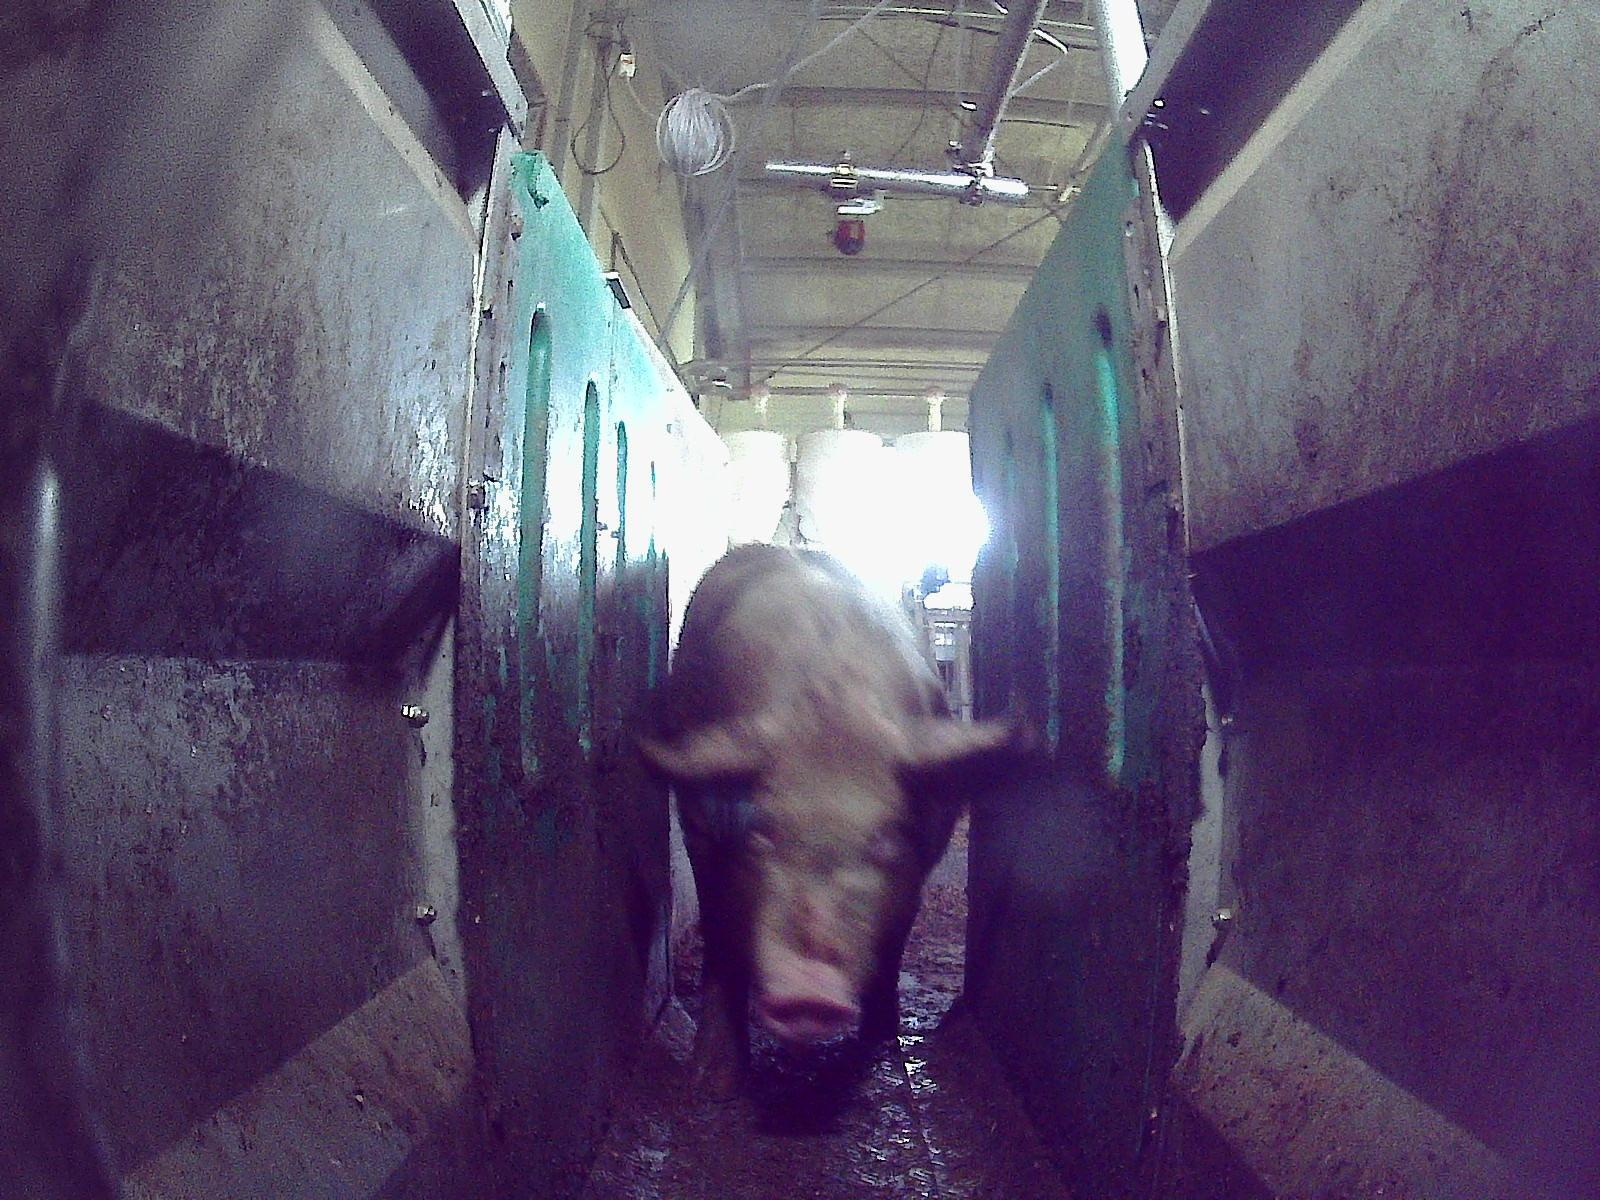Face: (712, 688, 937, 1039)
